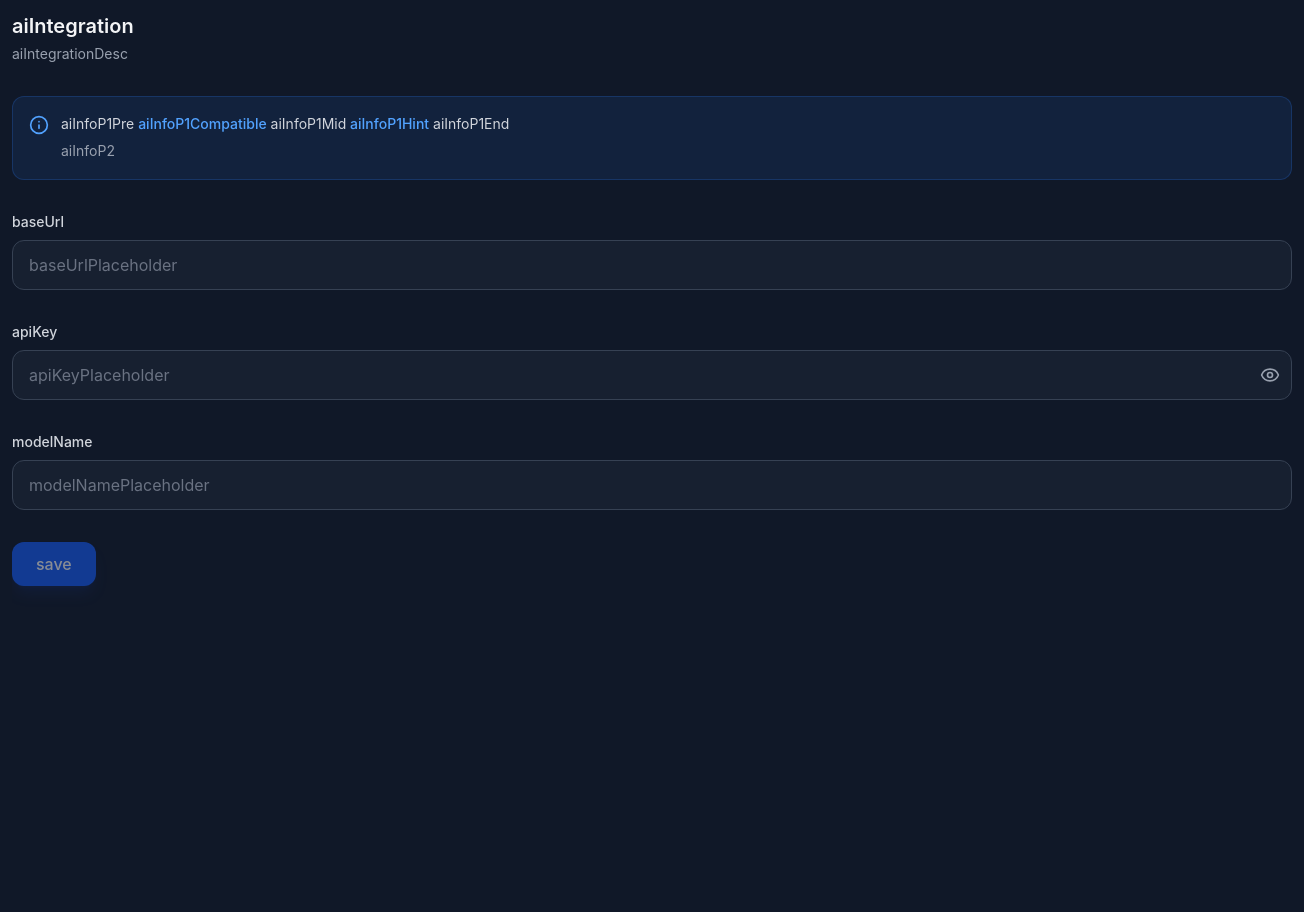
Test: AIIntegrationSettings — save flow › validate fetch rejects: shows error fallback
Type "https://api.example.com" into the field labelled "baseUrl" at (652, 264), box x1=12 y1=240 x2=1292 y2=290
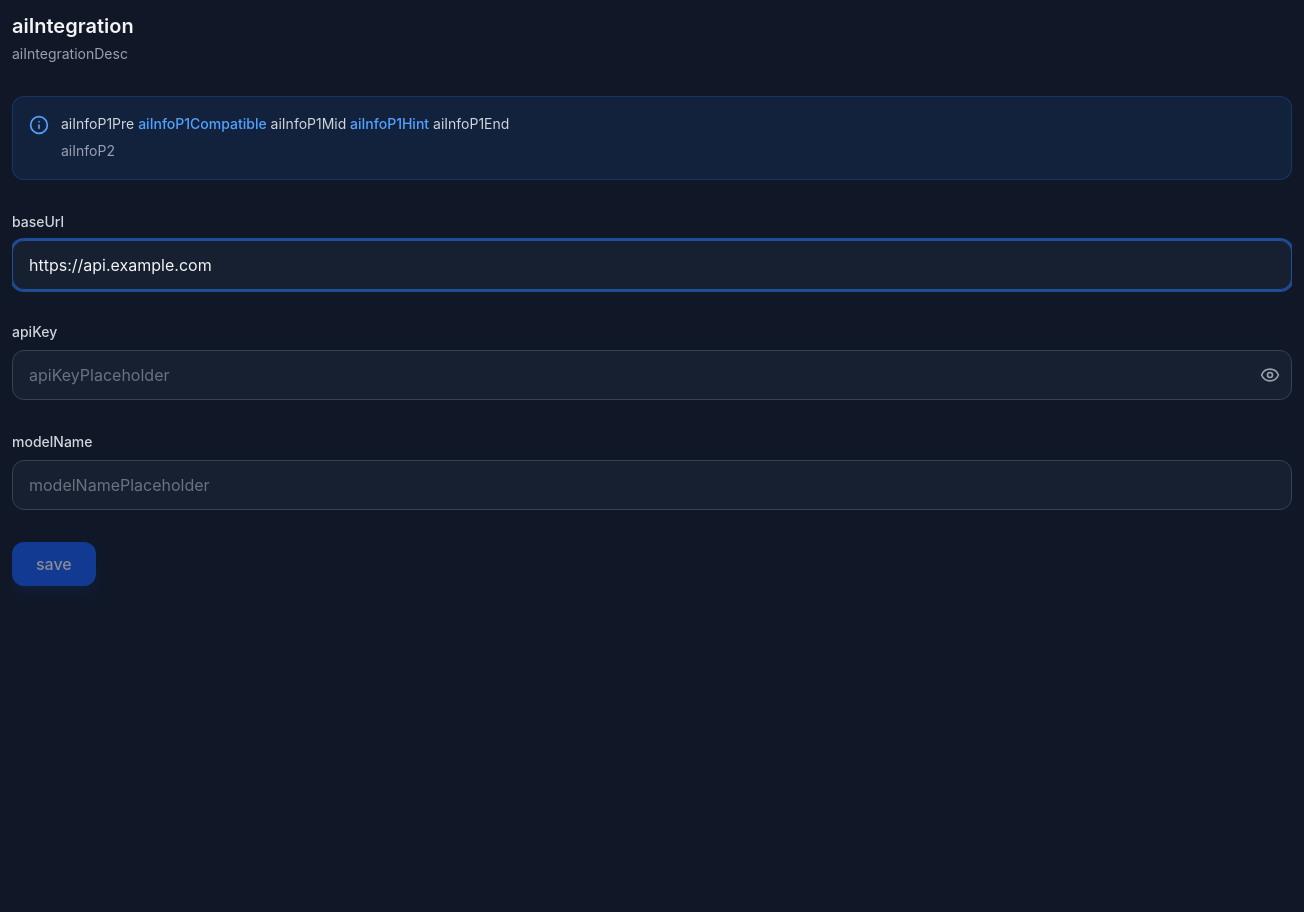
Type "sk-x" into the password field labelled "apiKey" at (652, 374), box x1=12 y1=350 x2=1292 y2=400
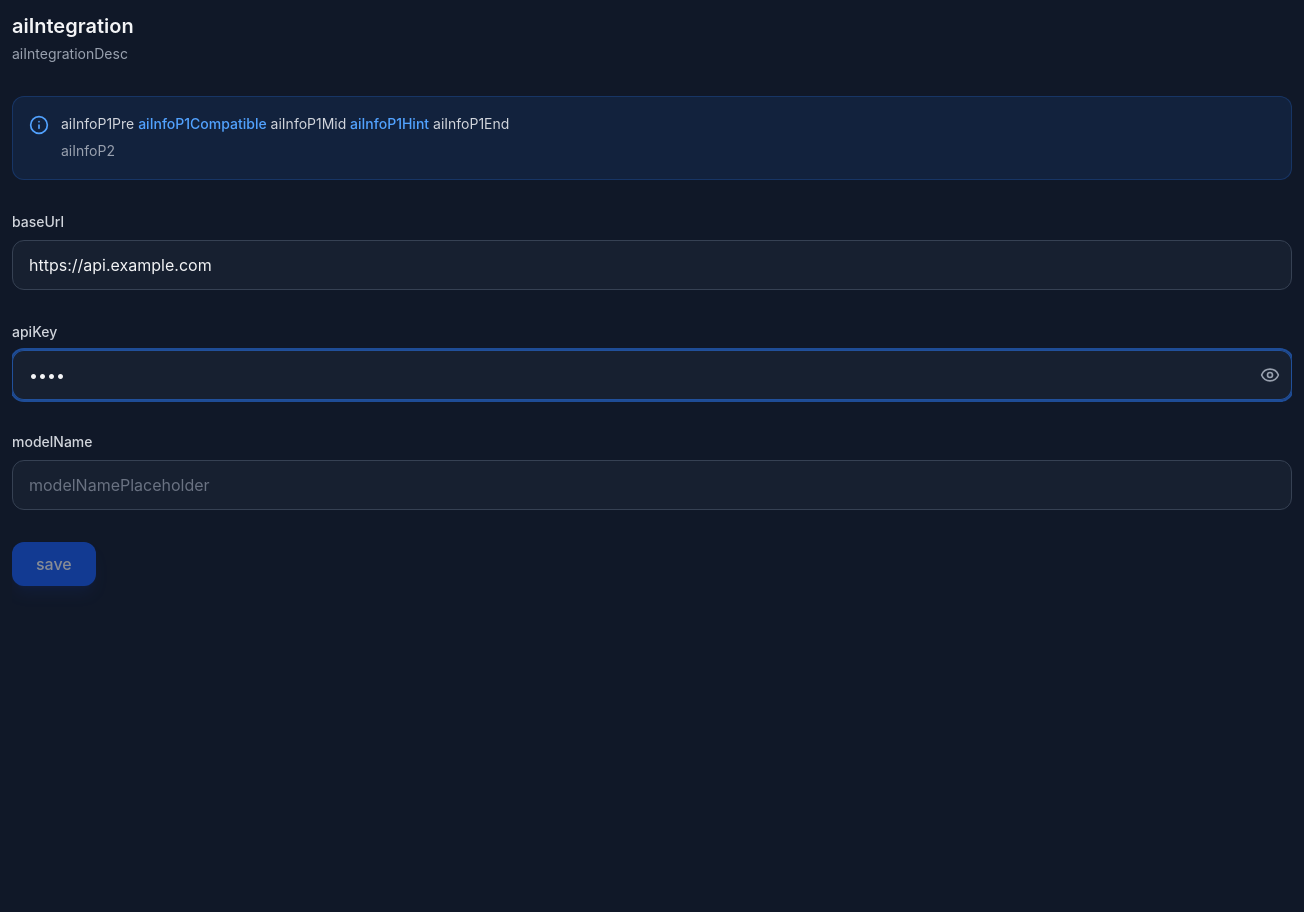
Type "gpt-4" into the field labelled "modelName" at (652, 484), box x1=12 y1=460 x2=1292 y2=510
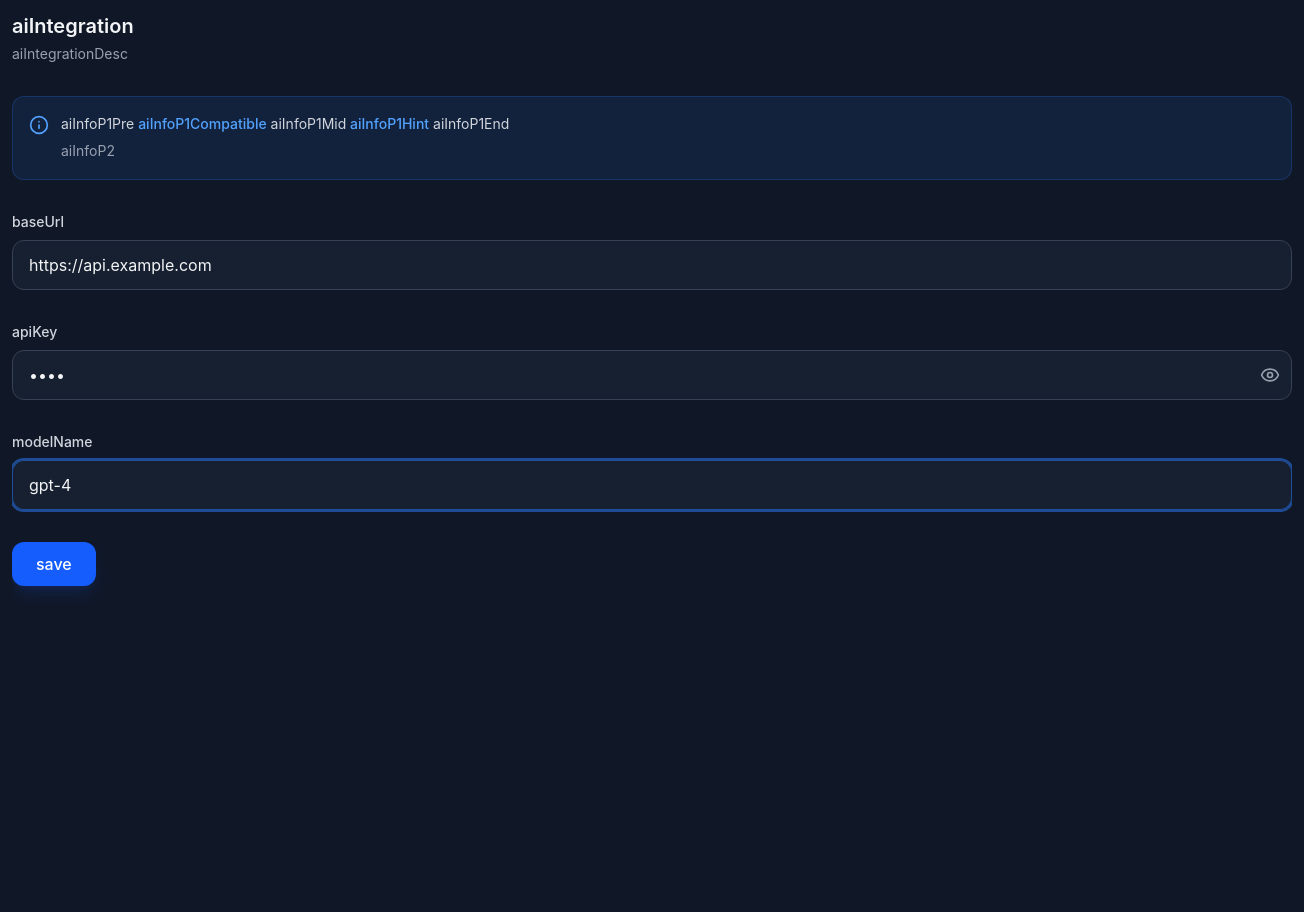
Click the button "save" at (54, 564), box x1=12 y1=542 x2=96 y2=586
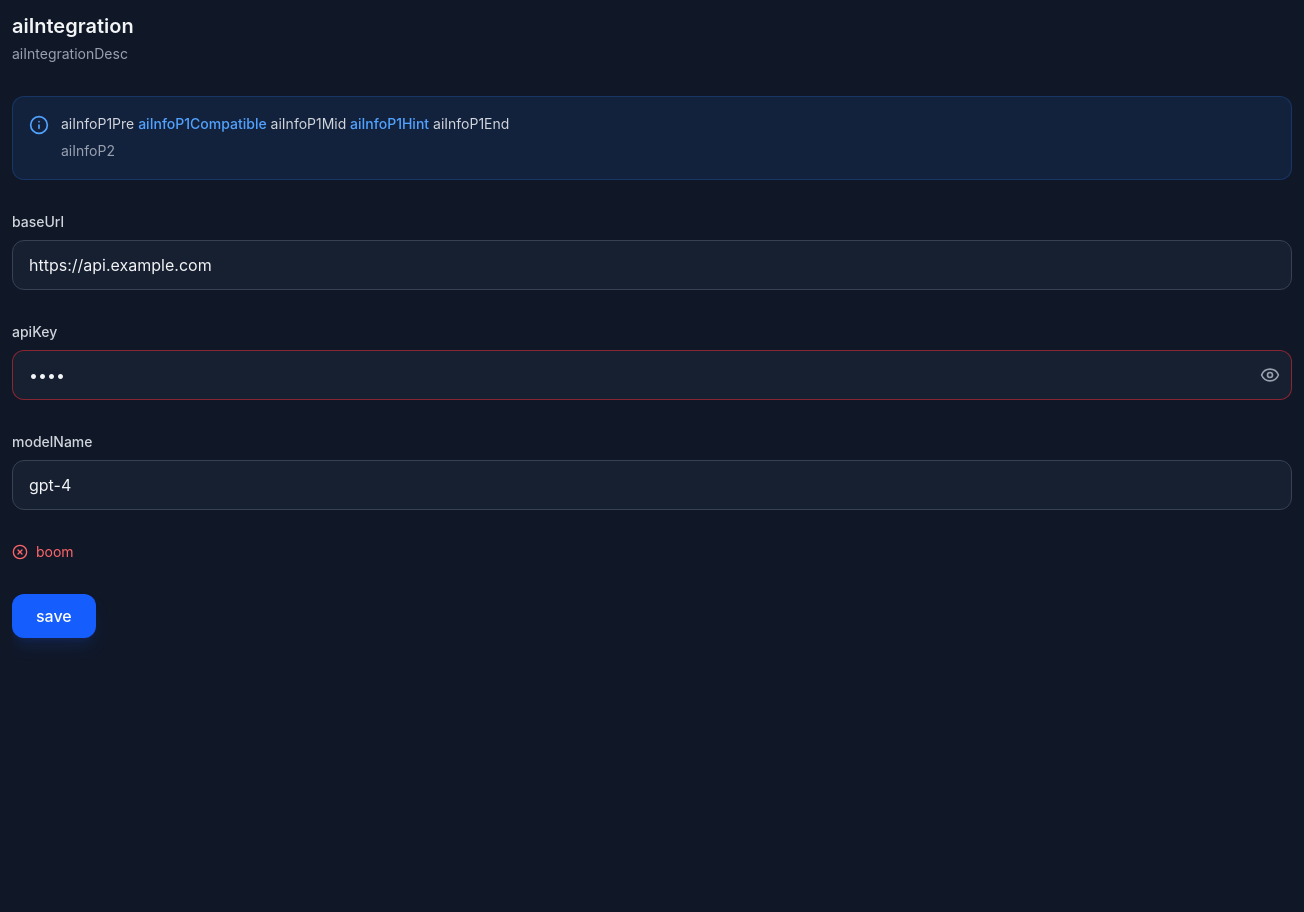
Now the text "boom" is shown, box x1=36 y1=542 x2=74 y2=562
